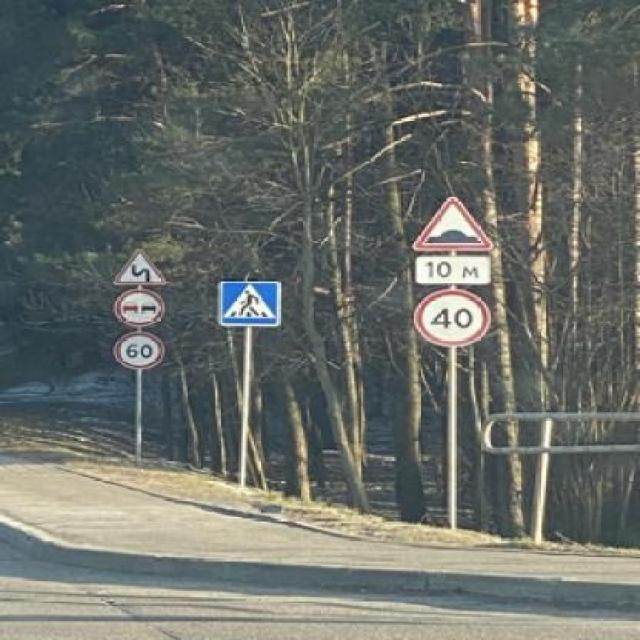forb_speed_over_40: (416, 288, 490, 348)
forb_speed_over_60: (117, 329, 163, 369)
